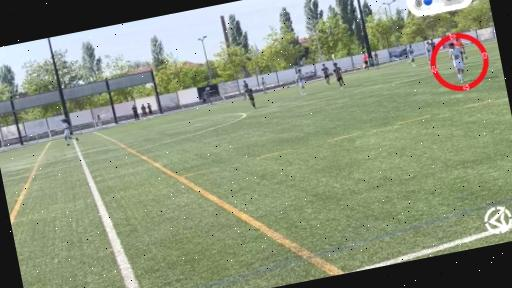highlight_overlay: (424, 24, 494, 98)
